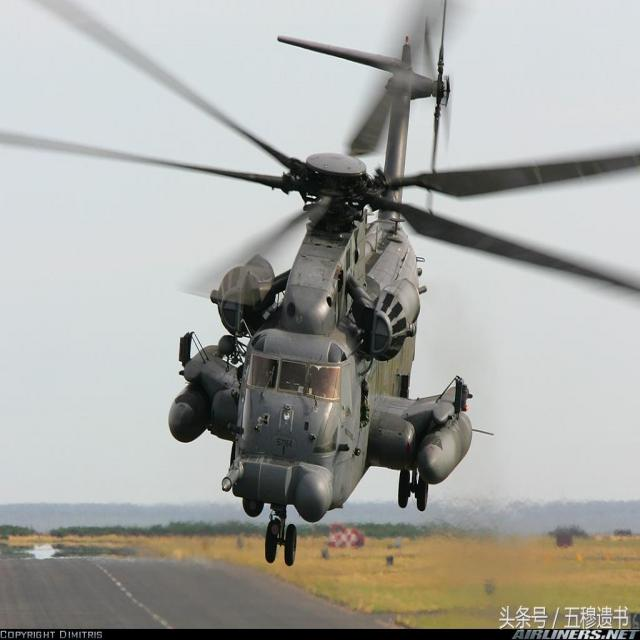MIL_HELO: (4, 0, 640, 556)
